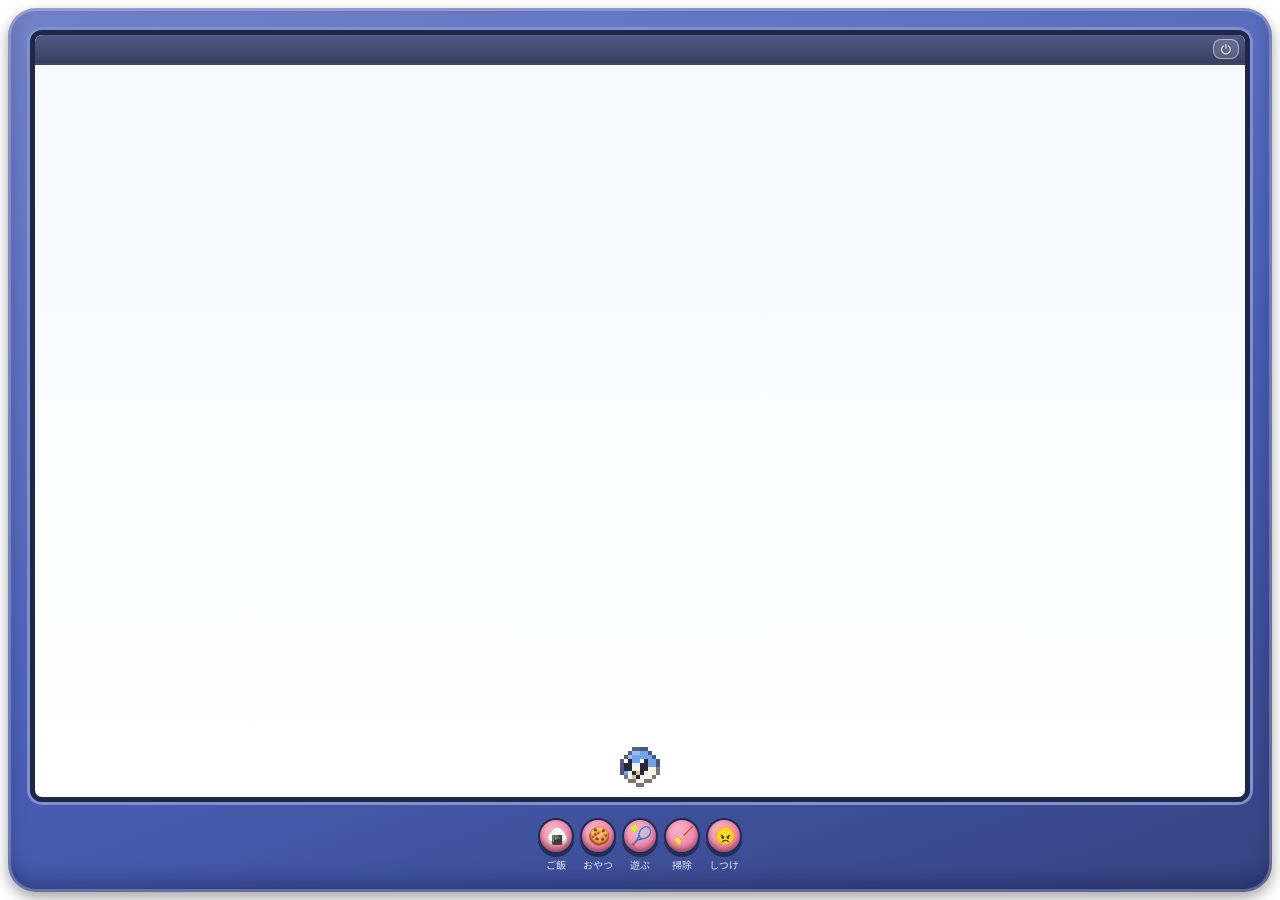
Test: App › shows an error message when performAction rejects
Click the button named "ご飯": (556, 836) [538, 818, 574, 854]
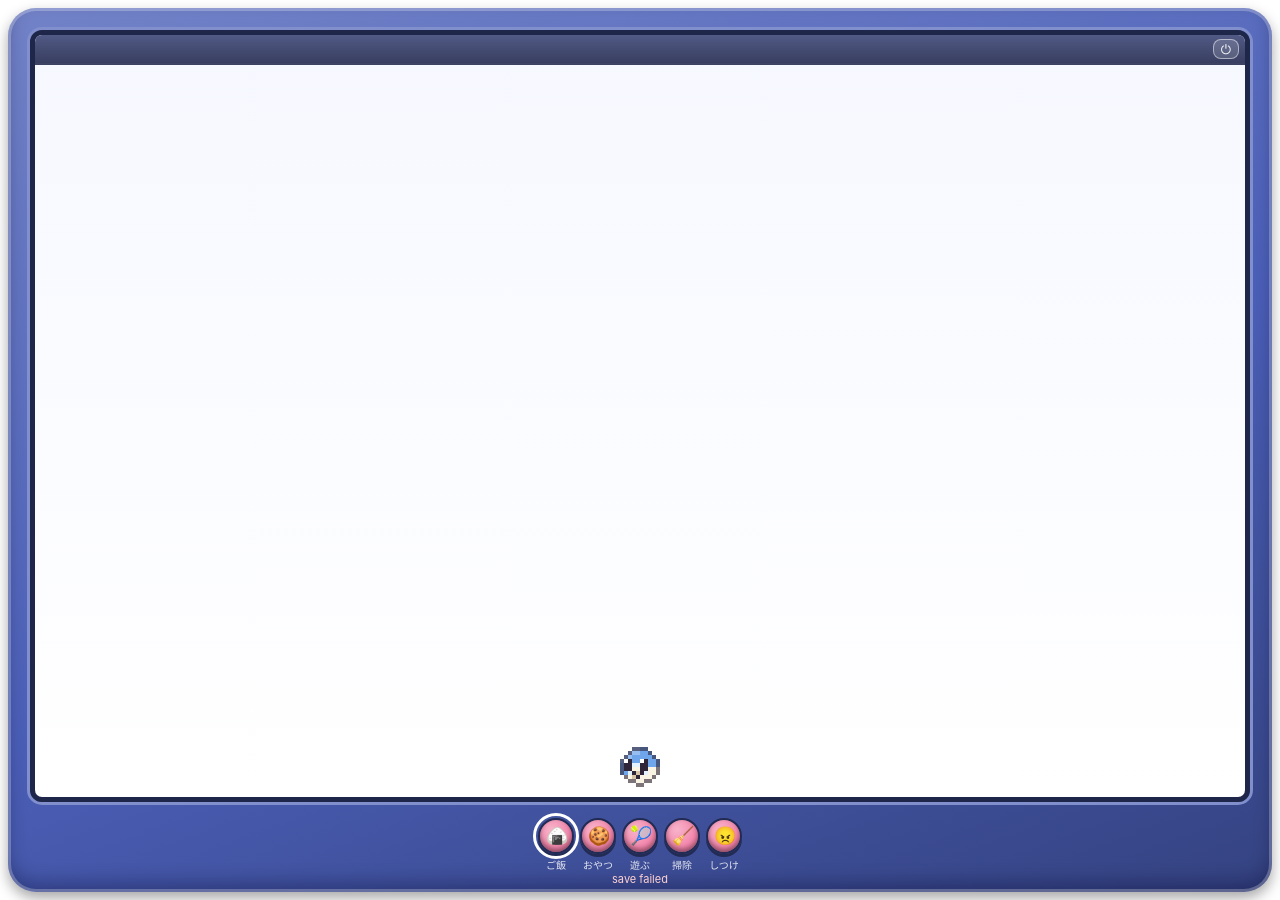
Result: the message reads "save failed" at [612, 872, 668, 886]
